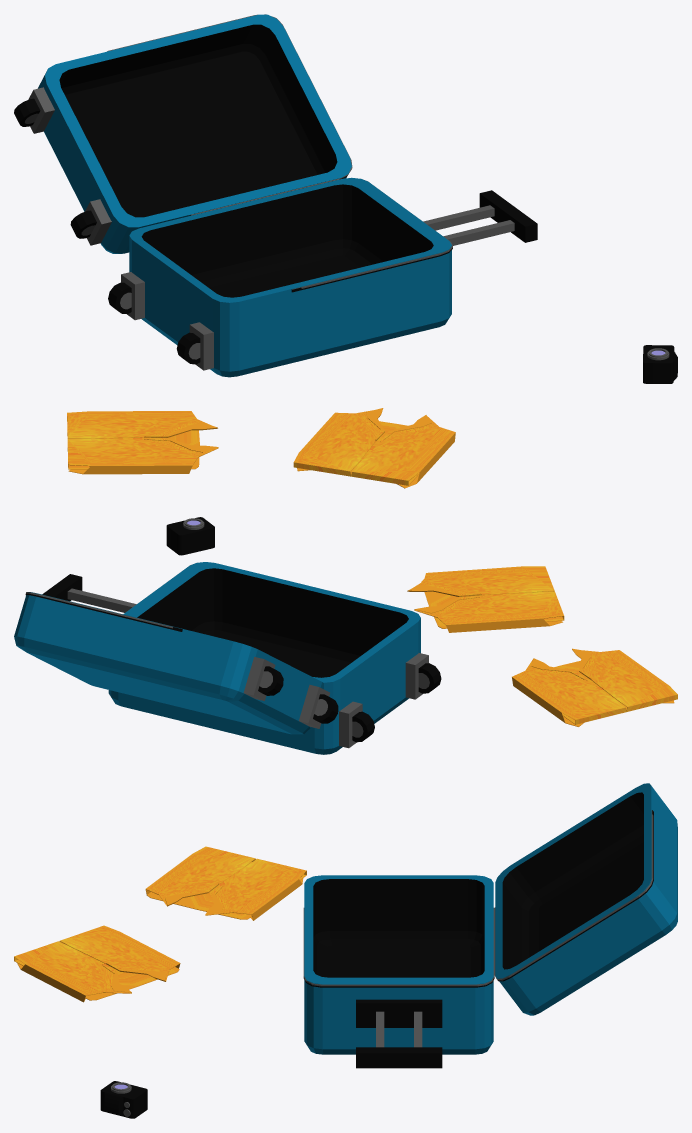
Rendered from spilled_luggage_and_contents.glb.
3 views of the same model, one above another, from view 1: azimuth 30°, elevation 25°; view 2: azimuth 150°, elevation 25°; view 3: azimuth 270°, elevation 25° (orthographic). The views are drawn at different scales.
Parts seen in each view (by area): view 1: Open Luggage Body, Open Luggage Body Back, Blue Shirt, Yellow Shirt, Open Luggage Wheels Back, Open Luggage Wheels Front, Open Luggage Bars, Open Luggage Handles, Camera; view 2: Open Luggage Body Back, Open Luggage Body, Yellow Shirt, Blue Shirt, Open Luggage Wheels Back, Open Luggage Wheels Front, Camera, Open Luggage Bars, Open Luggage Zipper Back, Open Luggage Handles; view 3: Open Luggage Body Back, Open Luggage Body, Yellow Shirt, Blue Shirt, Open Luggage Handles, Camera, Open Luggage Zipper Front, Open Luggage Zipper Back, Open Luggage Bars.
Part boxes in pixels (<box>): Open Luggage Body: <box>38,14,351,253</box>; Open Luggage Body Back: <box>129,177,451,377</box>; Blue Shirt: <box>67,411,218,474</box>; Yellow Shirt: <box>293,408,455,488</box>; Open Luggage Wheels Back: <box>108,272,213,370</box>; Open Luggage Wheels Front: <box>14,87,111,245</box>; Open Luggage Bars: <box>423,205,514,245</box>; Open Luggage Handles: <box>479,190,537,242</box>; Camera: <box>643,345,677,383</box>; Open Luggage Body Back: <box>108,562,420,754</box>; Open Luggage Body: <box>14,592,323,734</box>; Yellow Shirt: <box>407,566,564,632</box>; Blue Shirt: <box>512,648,677,726</box>; Open Luggage Wheels Back: <box>339,653,441,748</box>; Open Luggage Wheels Front: <box>243,657,338,728</box>; Camera: <box>166,517,214,555</box>; Open Luggage Bars: <box>67,588,136,612</box>; Open Luggage Zipper Back: <box>25,592,182,631</box>; Open Luggage Handles: <box>42,574,82,601</box>; Open Luggage Body Back: <box>304,875,493,1054</box>; Open Luggage Body: <box>495,783,677,1015</box>; Yellow Shirt: <box>14,925,180,1002</box>; Blue Shirt: <box>145,846,306,920</box>; Open Luggage Handles: <box>356,999,442,1068</box>; Camera: <box>100,1081,147,1118</box>; Open Luggage Zipper Front: <box>303,907,494,987</box>; Open Luggage Zipper Back: <box>494,810,653,981</box>; Open Luggage Bars: <box>376,1011,422,1047</box>.
Size of the model in its own units: 6.53 by 2.04 by 7.02.
Materials: 6 (2 with a texture image).
